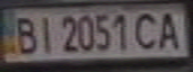0: (75, 11, 96, 53)
1: (109, 10, 133, 52)
2: (57, 11, 78, 54)
5: (93, 10, 115, 52)
A: (154, 8, 187, 51)
B: (9, 12, 39, 55)
C: (133, 9, 163, 51)
I: (33, 12, 57, 54)
